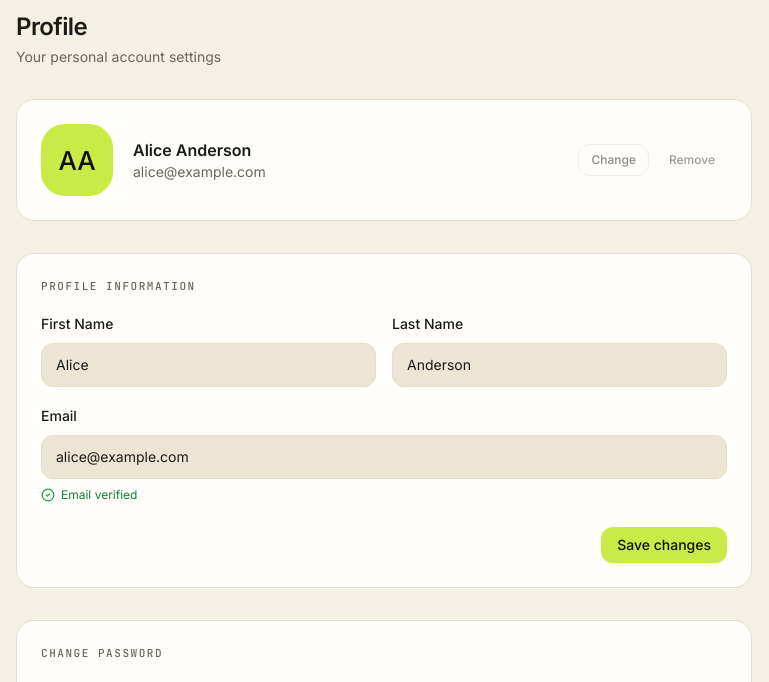
it: <ProfilePage /> › updates first name and shows success message
Replace the text in the field showing "Alice" with "Alicia" at point(208, 364), box [41,342,376,386]
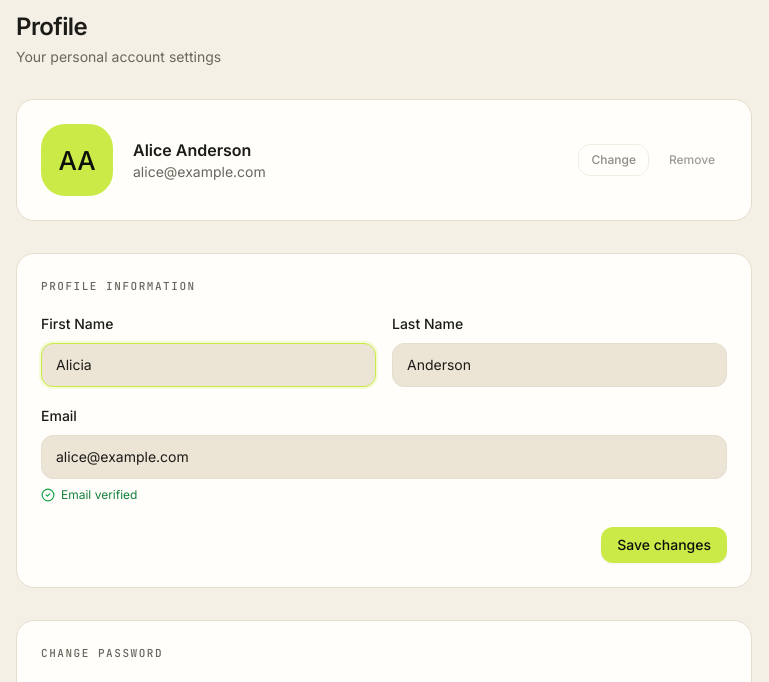
Click the button "Save changes".
click(664, 544)  # box [601,526,727,562]
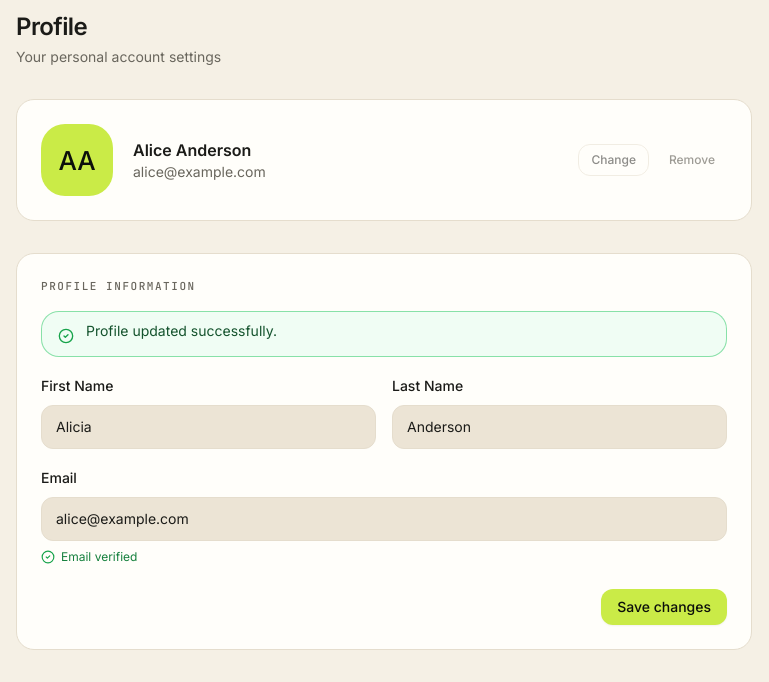
Expected: the text "Profile updated successfully." is shown, [86,322,277,338]
